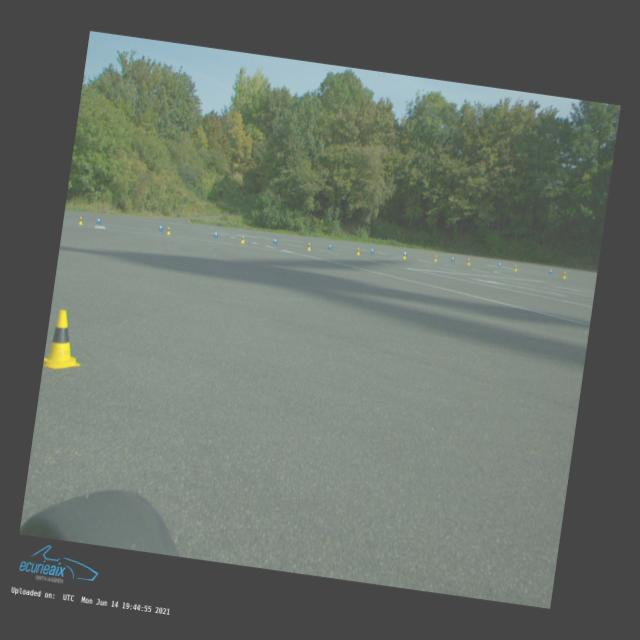blue_cone: (272, 238, 278, 245), (96, 217, 102, 224), (159, 224, 164, 231), (214, 230, 218, 238), (328, 243, 332, 250), (370, 248, 374, 254), (549, 269, 553, 274), (404, 252, 408, 256), (498, 262, 501, 266), (452, 256, 454, 262)
yellow_cone: (42, 308, 88, 372), (240, 236, 247, 244), (78, 217, 84, 226), (466, 258, 472, 266), (356, 247, 362, 255), (166, 227, 172, 234), (562, 271, 567, 279), (307, 243, 312, 251), (433, 255, 438, 262), (514, 264, 518, 272), (403, 252, 407, 259)
